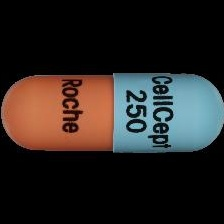0004-0259: (0, 0, 224, 224)
